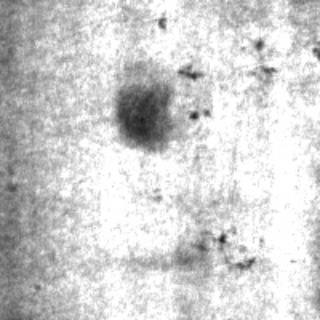patches: (107, 74, 169, 154)
